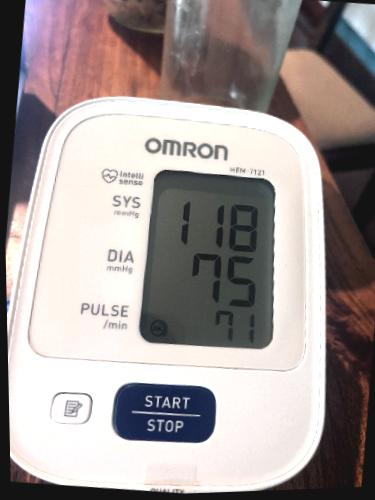bpm: (135, 166, 284, 352)
